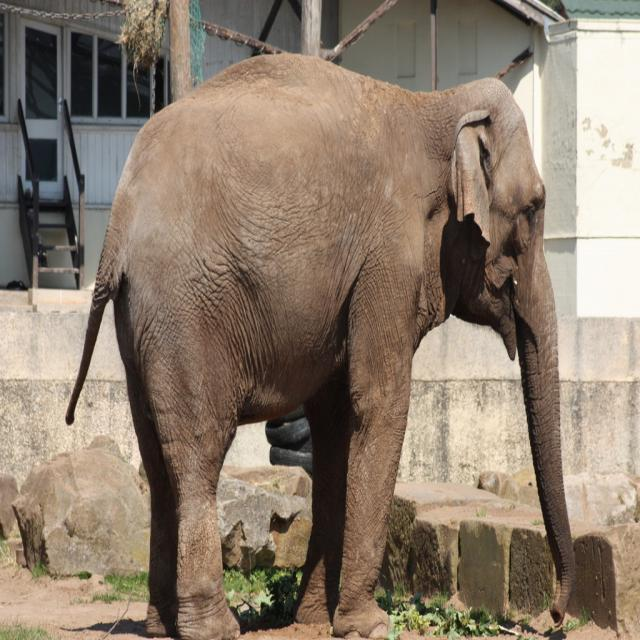Elephant: (66, 51, 580, 640)
